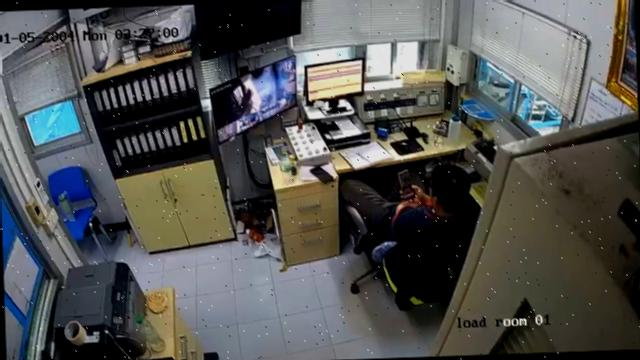Head: (428, 165, 472, 210)
People: (339, 163, 479, 238)
Phone: (396, 168, 417, 202), (307, 165, 335, 184)
